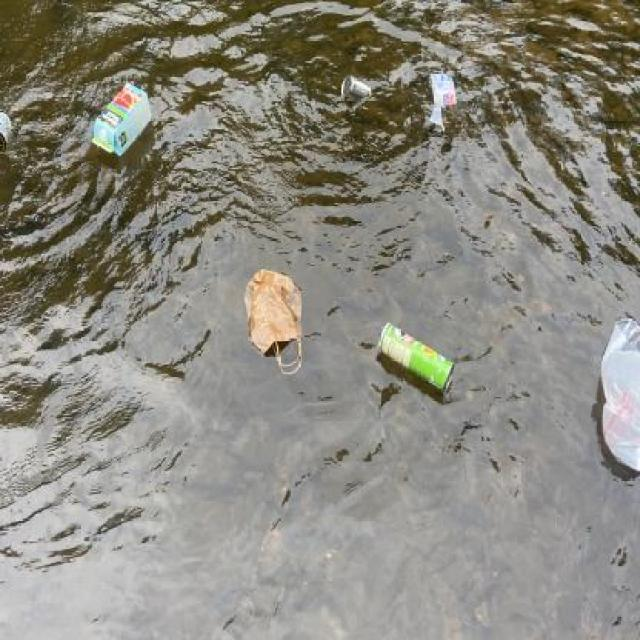Can-Metal: (374, 320, 458, 400), (337, 73, 375, 104)
Cardboard: (90, 78, 156, 162)
Paper: (239, 265, 307, 378)
Plastic: (595, 311, 640, 480), (428, 70, 460, 132), (0, 107, 14, 156)
